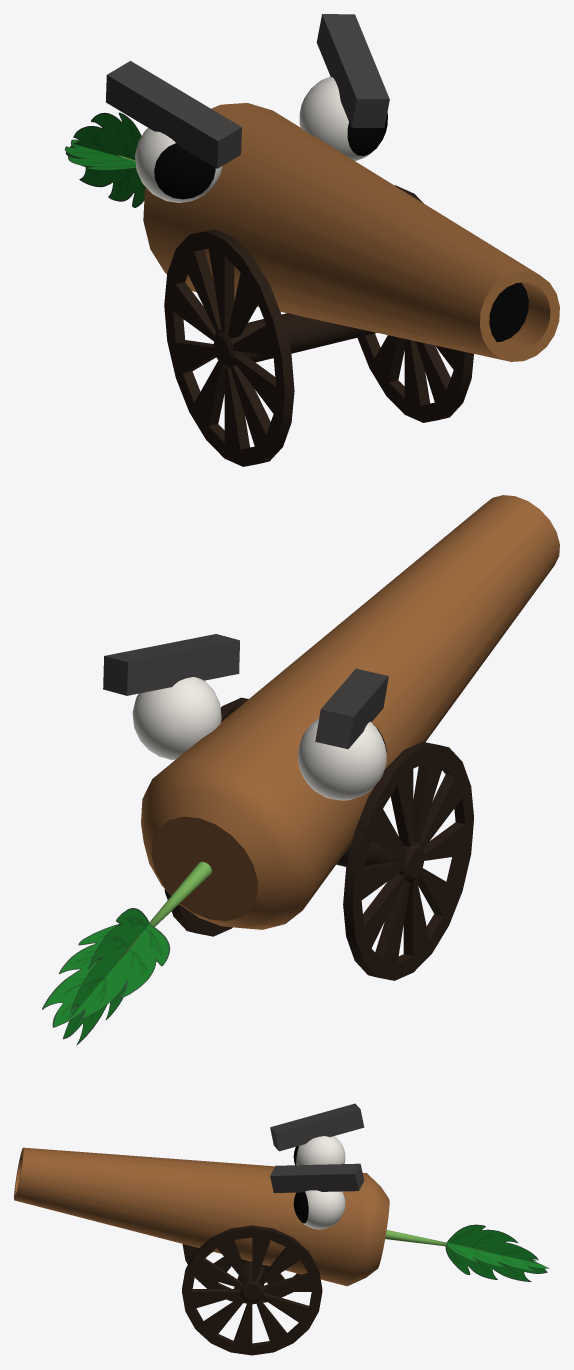
File: CarrotCannon_Model.fbx
3 renders of one model, top to bottom at view 1: azimuth 30°, elevation 25°; view 2: azimuth 150°, elevation 25°; view 3: azimuth 270°, elevation 25°, orthographic. The views are drawn at different scales.
Parts seen in each view (by area): view 1: CarrotMainBody, Wheels, Eyebrows, Eyes, CarrotLeaf; view 2: CarrotMainBody, Wheels, Eyes, Eyebrows, CarrotLeaf; view 3: CarrotMainBody, Wheels, Eyebrows, CarrotLeaf, Eyes.
Boxes of the visible parts, x1,y1,x2,y2 form: CarrotMainBody: [117, 103, 559, 361]; Wheels: [164, 185, 473, 466]; Eyebrows: [106, 14, 389, 168]; Eyes: [135, 76, 387, 202]; CarrotLeaf: [64, 112, 145, 207]; CarrotMainBody: [115, 495, 559, 963]; Wheels: [164, 697, 473, 980]; Eyes: [132, 677, 386, 800]; Eyebrows: [103, 634, 388, 749]; CarrotLeaf: [42, 908, 170, 1045]; CarrotMainBody: [14, 1147, 485, 1286]; Wheels: [182, 1225, 322, 1355]; Eyebrows: [270, 1103, 364, 1192]; CarrotLeaf: [445, 1224, 549, 1281]; Eyes: [293, 1136, 345, 1229].
Size of the model in its own units: 0.7197 by 0.914 by 2.35.
